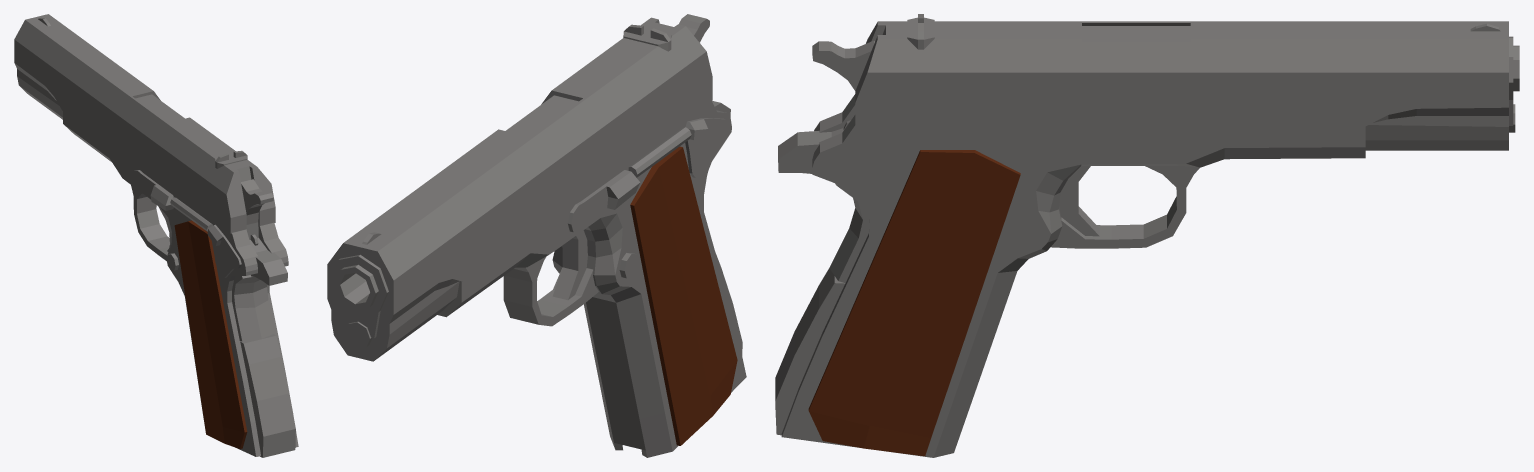
Rendered from gun.glb.
3 renders of one model, left to right at view 1: azimuth 30°, elevation 25°; view 2: azimuth 150°, elevation 25°; view 3: azimuth 270°, elevation 25°, orthographic. The views are drawn at different scales.
Visible parts, largest first — view 1: m1911-gun; view 2: m1911-gun; view 3: m1911-gun.
Boxes of the visible parts, <box> form: m1911-gun: <box>14,14,298,457</box>; m1911-gun: <box>327,14,746,457</box>; m1911-gun: <box>775,14,1519,457</box>.
Bounding box in the file's own units: 0.0278 × 0.1332 × 0.2118.
